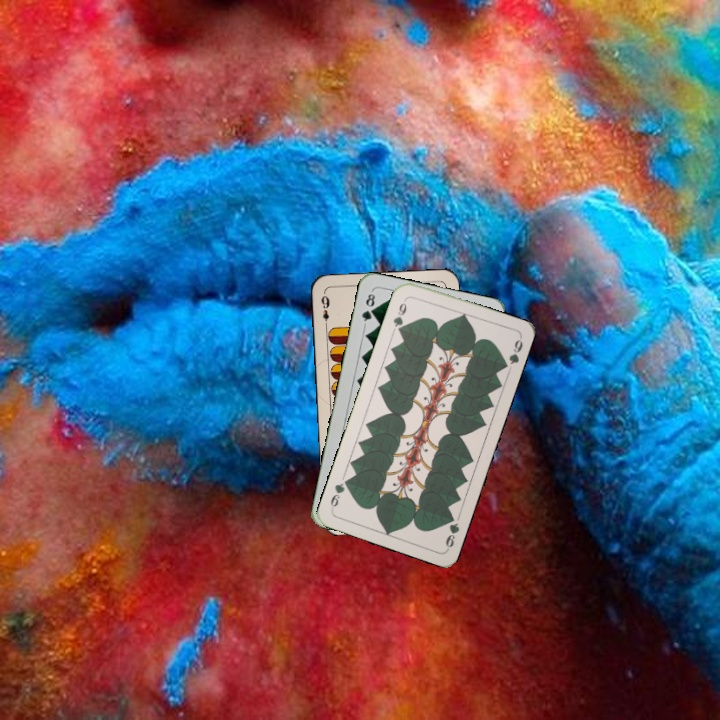E9: (317, 292, 332, 330)
G8: (357, 287, 378, 328)
G9: (442, 510, 462, 552), (389, 295, 409, 335)
